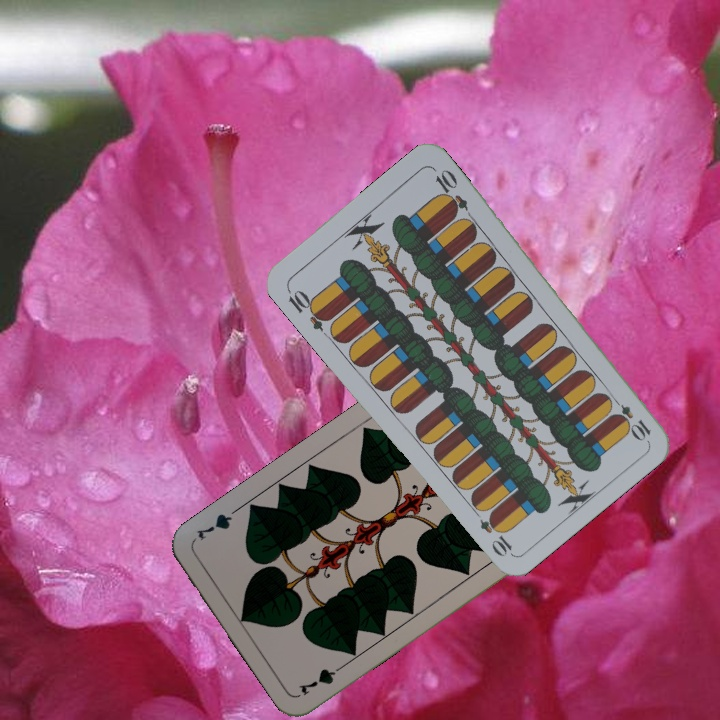E10: (283, 284, 333, 334), (606, 392, 654, 443)
G7: (295, 659, 350, 699)
